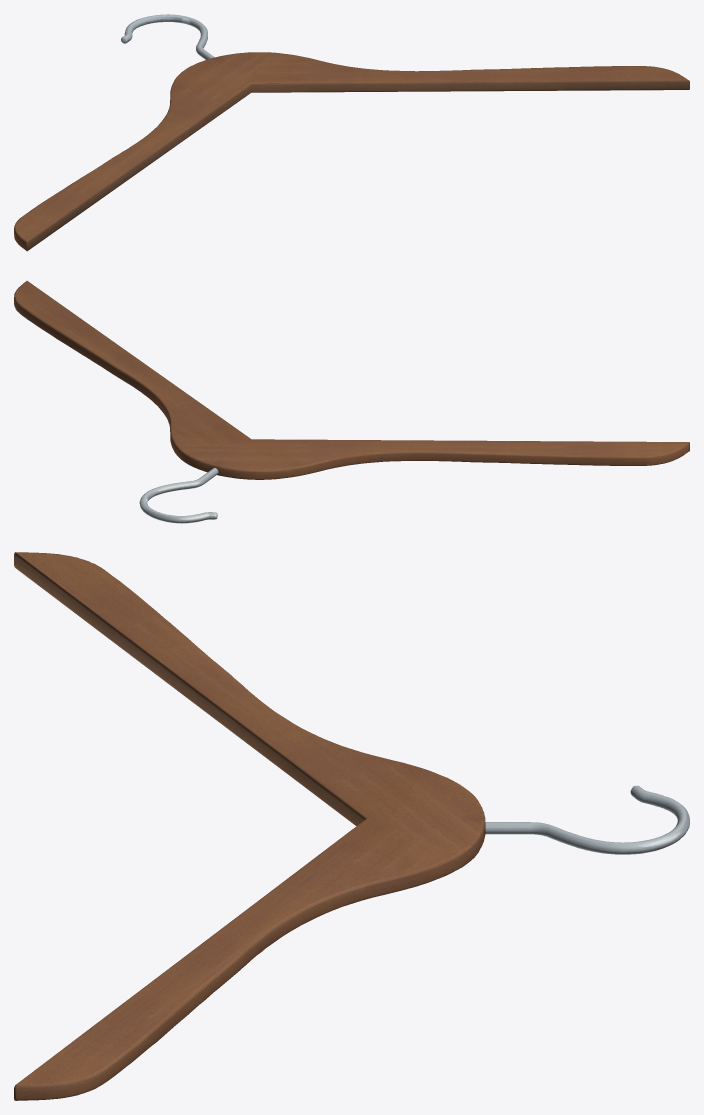
Rendered from cona_black_plastic.glb.
3 views of the same model, one above another, from view 1: azimuth 30°, elevation 25°; view 2: azimuth 150°, elevation 25°; view 3: azimuth 270°, elevation 25° (orthographic). The views are drawn at different scales.
Visible parts, largest first — view 1: cona-wood; view 2: cona-wood; view 3: cona-wood.
Boxes of the visible parts, bbox=[...] form: cona-wood: bbox=[14, 14, 689, 251]; cona-wood: bbox=[14, 281, 689, 523]; cona-wood: bbox=[14, 552, 689, 1100].
Bounding box in the file's own units: 1.04 × 0.0148 × 0.5591.
1 material, 1 textured.
